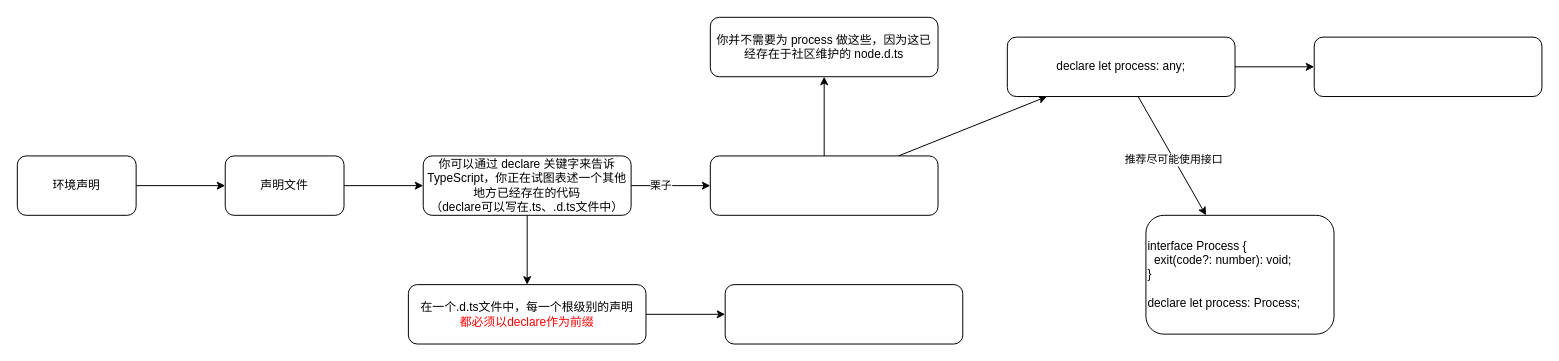
Some shapes in this 1559 by 361 pixel diagram are drawn without their labels. The centre of each missing label's shape, as x and y in pixels:
"process.exit(); 允许你使用 process，并能成功通过 TypeScript 的编译" goes at pixel 1427 66.
"ts不会将它编译为任何代码 确保编译时存在" goes at pixel 843 314.
"告诉 TypeScript 编辑器关于 process 变量" goes at pixel 823 185.
